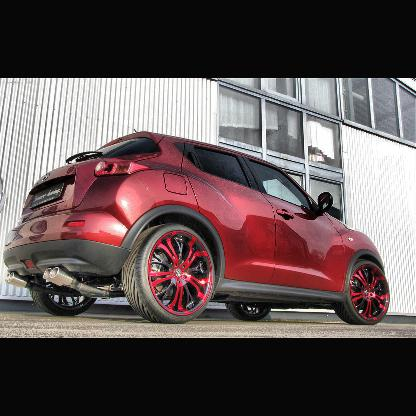Nissan Juke Hatchback 2012: (5, 128, 391, 326)
